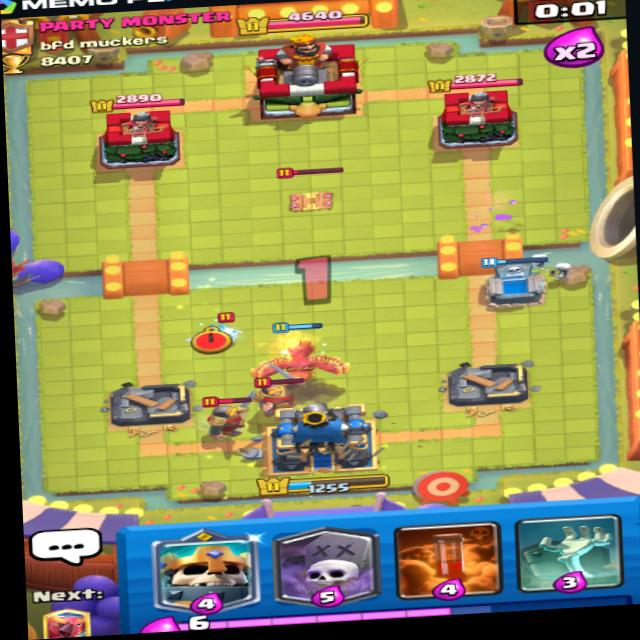ice-spirit: (200, 303, 250, 351)
knight: (198, 389, 260, 440), (247, 371, 305, 415)
tesla-closed: (273, 158, 350, 221)
